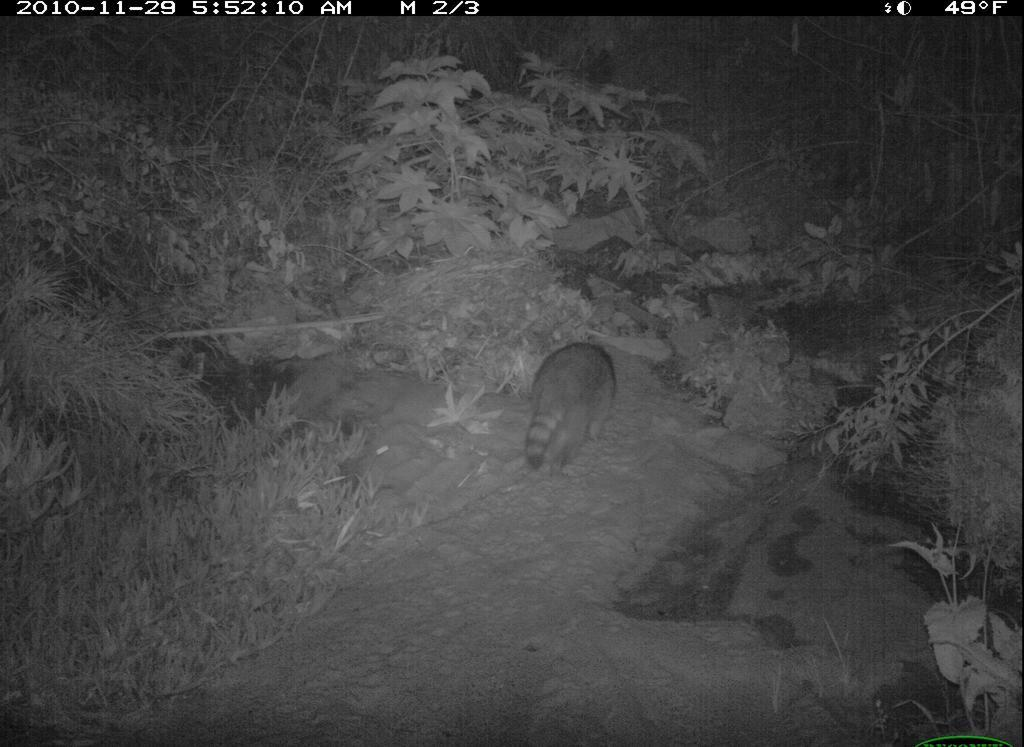raccoon: (523, 328, 619, 474)
